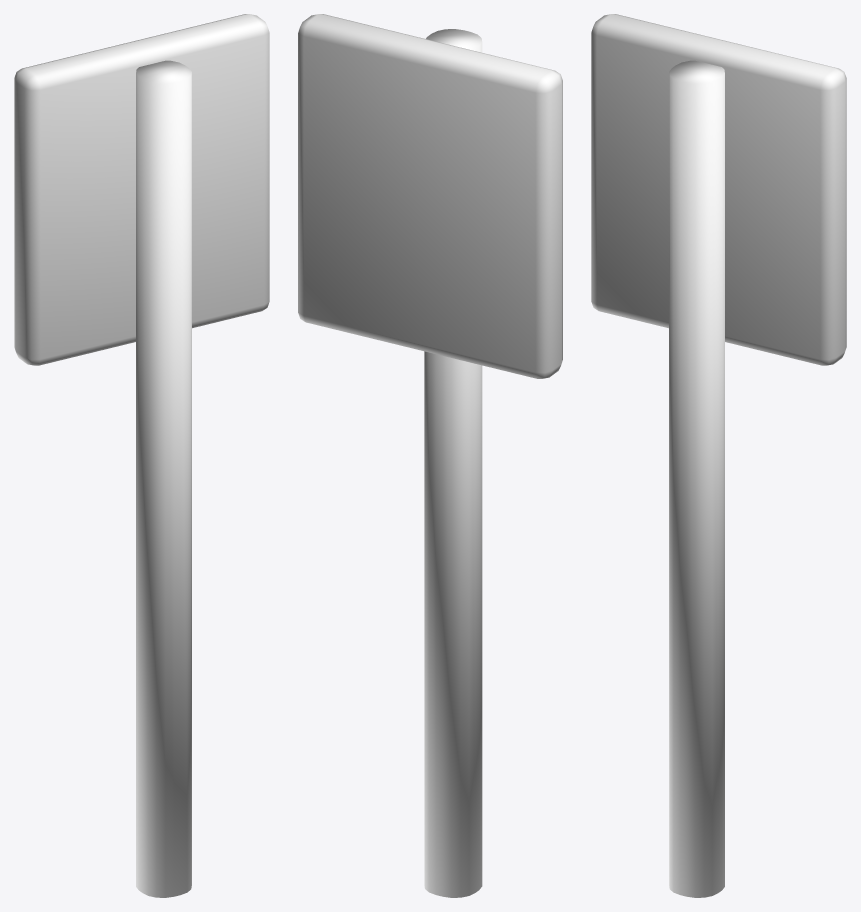
Rendered from sign.fbx.
The picture shows the model from 3 angles, left to right: view 1: azimuth 30°, elevation 25°; view 2: azimuth 150°, elevation 25°; view 3: azimuth 330°, elevation 25°; orthographic projection. The views are drawn at different scales.
Parts seen in each view (by area): view 1: sign; view 2: sign; view 3: sign.
Boxes of the visible parts, <box> form: sign: <box>14,14,269,897</box>; sign: <box>298,14,562,897</box>; sign: <box>591,14,846,897</box>.
Bounding box in the file's own units: 72.06 × 233 × 23.36.
